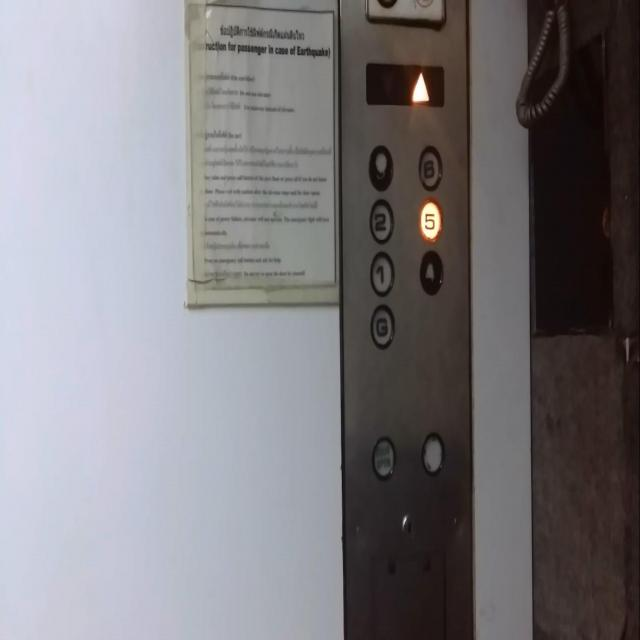1: (370, 252, 395, 300)
2: (369, 195, 393, 244)
5: (418, 196, 444, 248)
6: (416, 140, 443, 195)
G: (369, 300, 395, 353)
blur: (418, 247, 444, 298)
empty: (420, 427, 446, 475)
led: (366, 63, 446, 114)
text_blur: (369, 432, 397, 480)
unknown: (367, 140, 394, 192)
